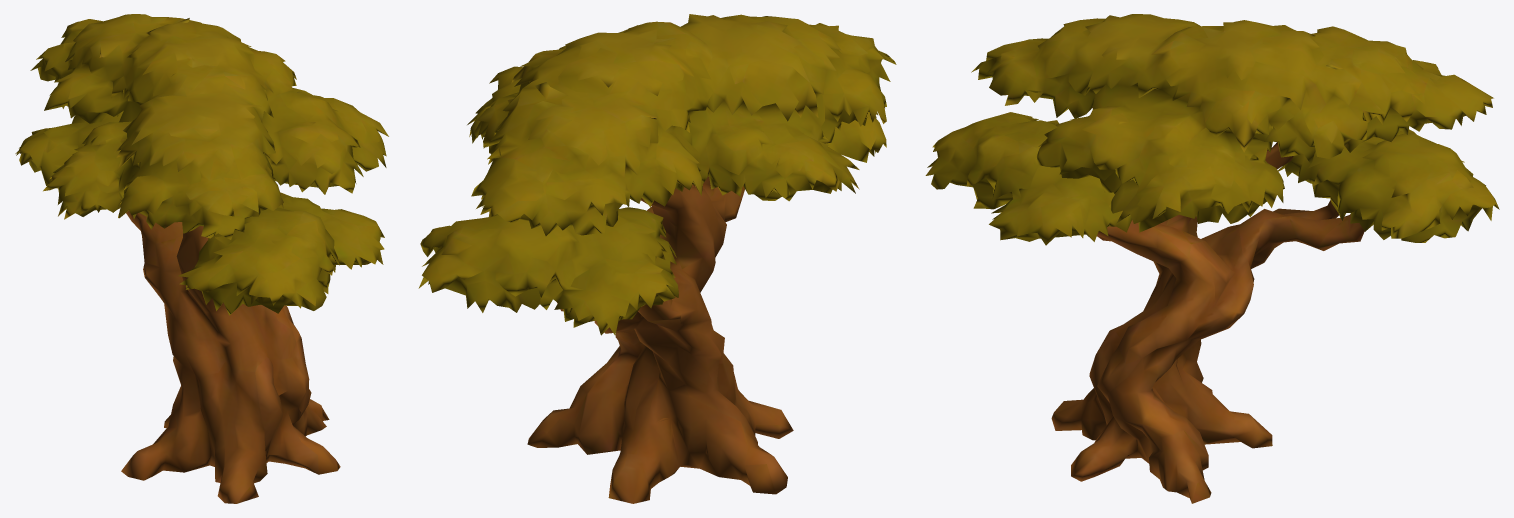
File: acacia.glb
3 renders of one model, left to right at view 1: azimuth 30°, elevation 25°; view 2: azimuth 150°, elevation 25°; view 3: azimuth 270°, elevation 25°, orthographic. The views are drawn at different scales.
Visible parts, largest first — view 1: tripo_node_4edef571-bff1-474f-b90c-1bf0deeb041e; view 2: tripo_node_4edef571-bff1-474f-b90c-1bf0deeb041e; view 3: tripo_node_4edef571-bff1-474f-b90c-1bf0deeb041e.
Boxes of the visible parts, x1,y1,x2,y2 form: tripo_node_4edef571-bff1-474f-b90c-1bf0deeb041e: (15,14,388,503); tripo_node_4edef571-bff1-474f-b90c-1bf0deeb041e: (418,14,896,503); tripo_node_4edef571-bff1-474f-b90c-1bf0deeb041e: (925,14,1499,503).
Size of the model in its own units: 0.6849 by 0.7926 by 1.
1 material, 1 textured.
